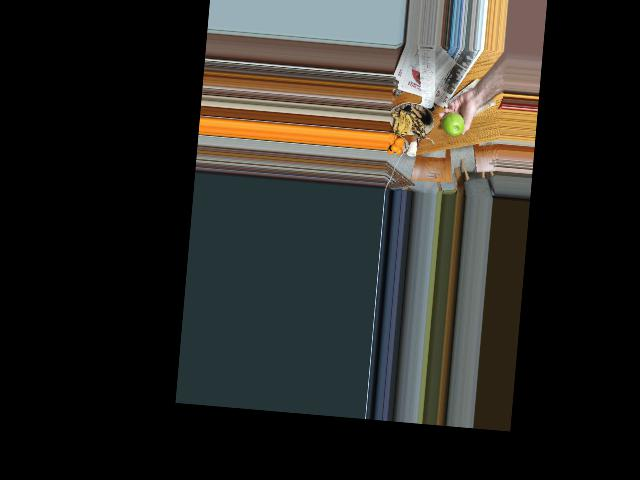apple: (439, 110, 465, 137)
